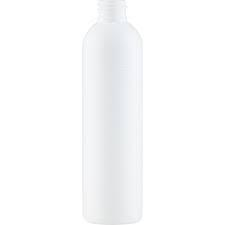Container for household chemicals: (70, 2, 153, 225)
